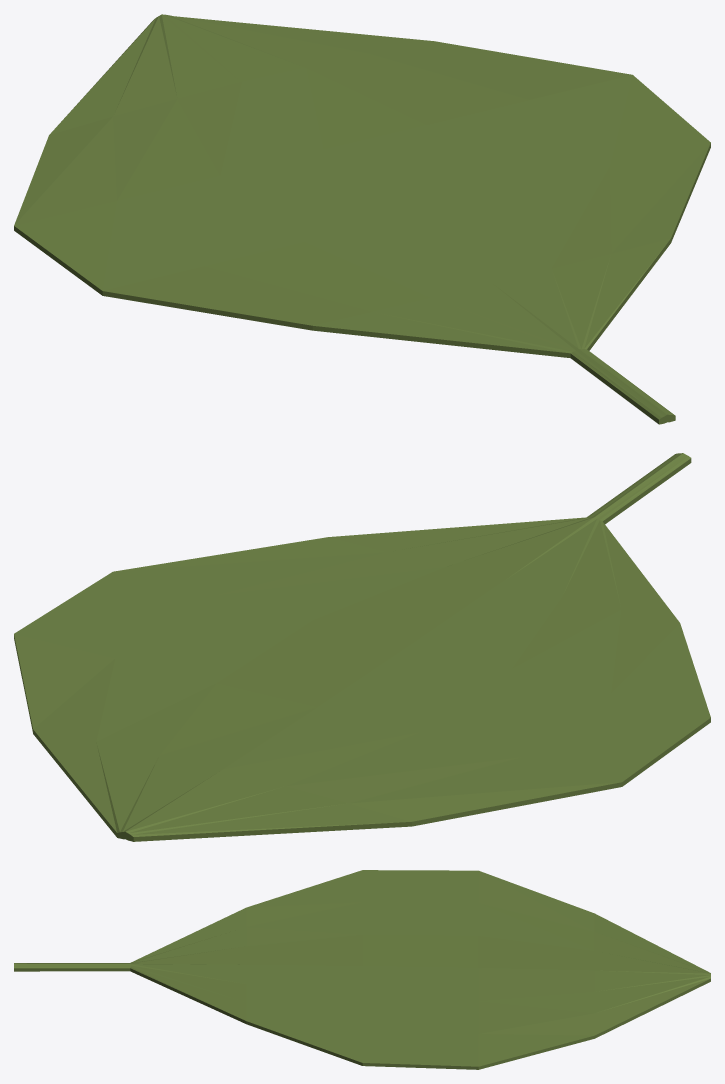
Rendered from fallen_leaf.glb.
3 views of the same model, one above another, from view 1: azimuth 30°, elevation 25°; view 2: azimuth 150°, elevation 25°; view 3: azimuth 270°, elevation 25° (orthographic). The views are drawn at different scales.
Parts seen in each view (by area): view 1: fallen_leaf; view 2: fallen_leaf; view 3: fallen_leaf.
Part boxes in pixels (x1,y1,x2,y2): fallen_leaf: (14,14,710,424); fallen_leaf: (14,453,710,841); fallen_leaf: (14,870,710,1069).
Bounding box in the file's own units: 0.06 × 0.00109 × 0.09.
